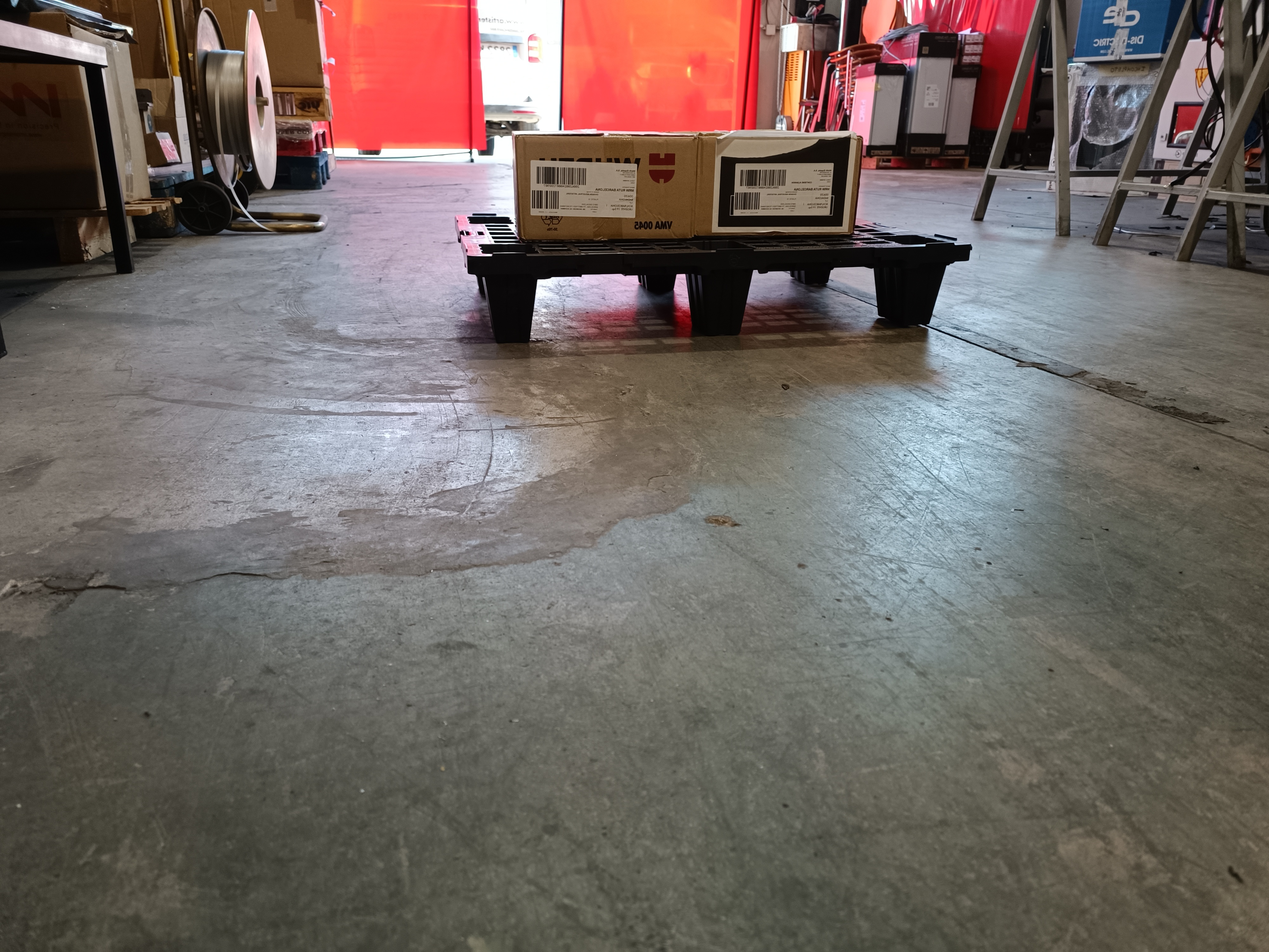block: (697, 266, 758, 340), (487, 275, 539, 336), (895, 265, 947, 325)
front: (471, 247, 962, 334)
hole pallet: (741, 265, 900, 332), (533, 270, 698, 330)
